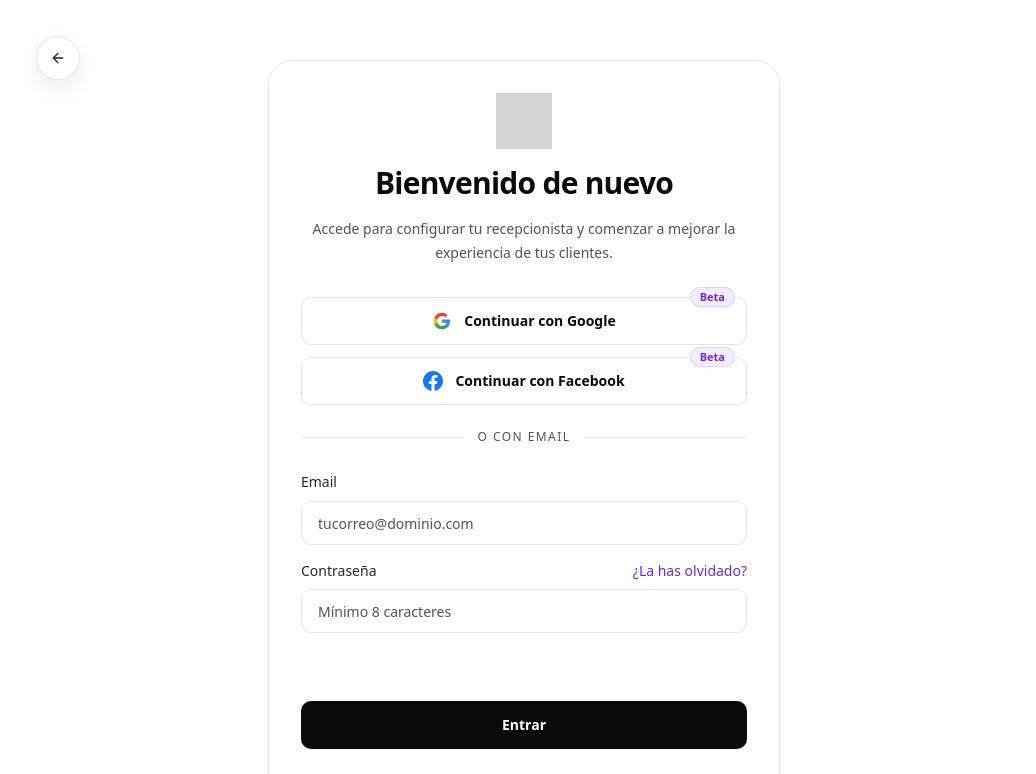
LoginPage › muestra un error de conexión si la petición no llega a obtener respuesta
Type "ana@example.com" into the field with placeholder "tucorreo@dominio.com".
click(524, 523); type("ana@example.com")  # box x1=301 y1=501 x2=747 y2=545
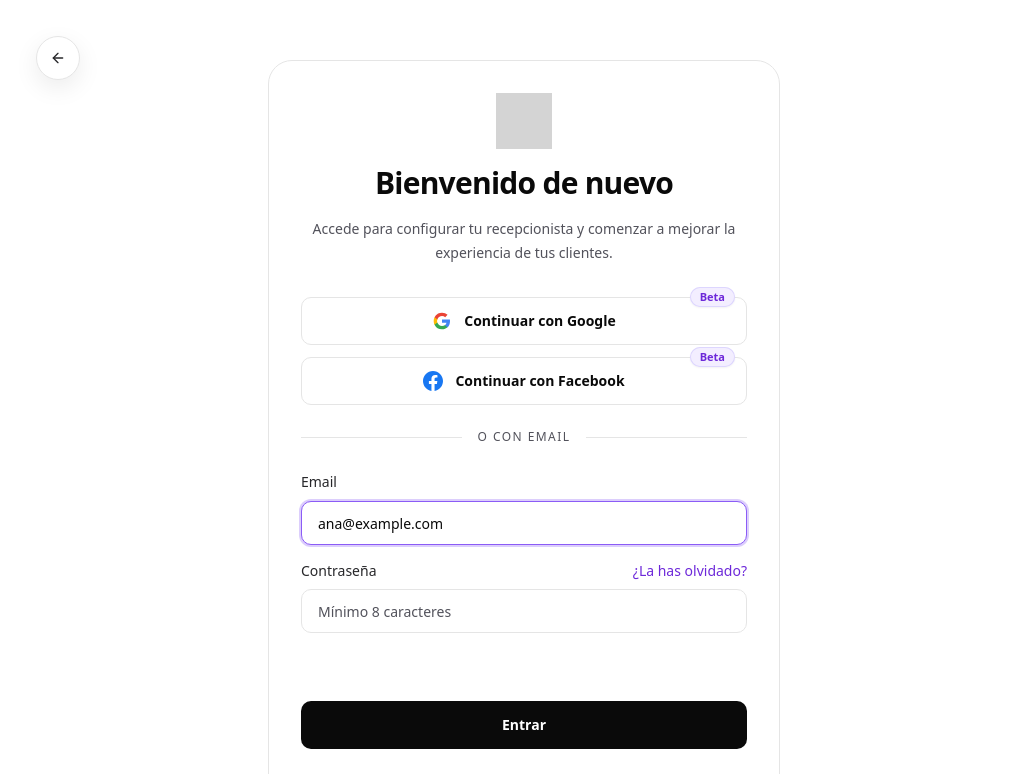
Type "wrong" into the password field with placeholder "Mínimo 8 caracteres".
click(524, 611); type("wrong")  # box x1=301 y1=589 x2=747 y2=633
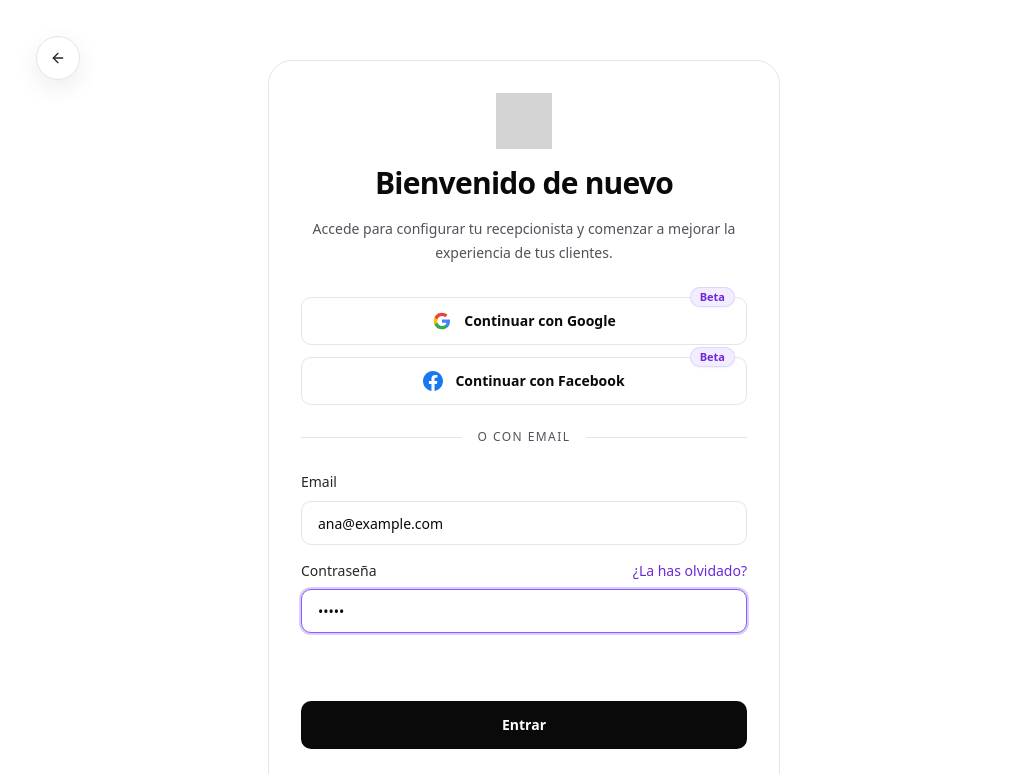
Click the button "Entrar".
click(524, 725)  # box x1=301 y1=701 x2=747 y2=749
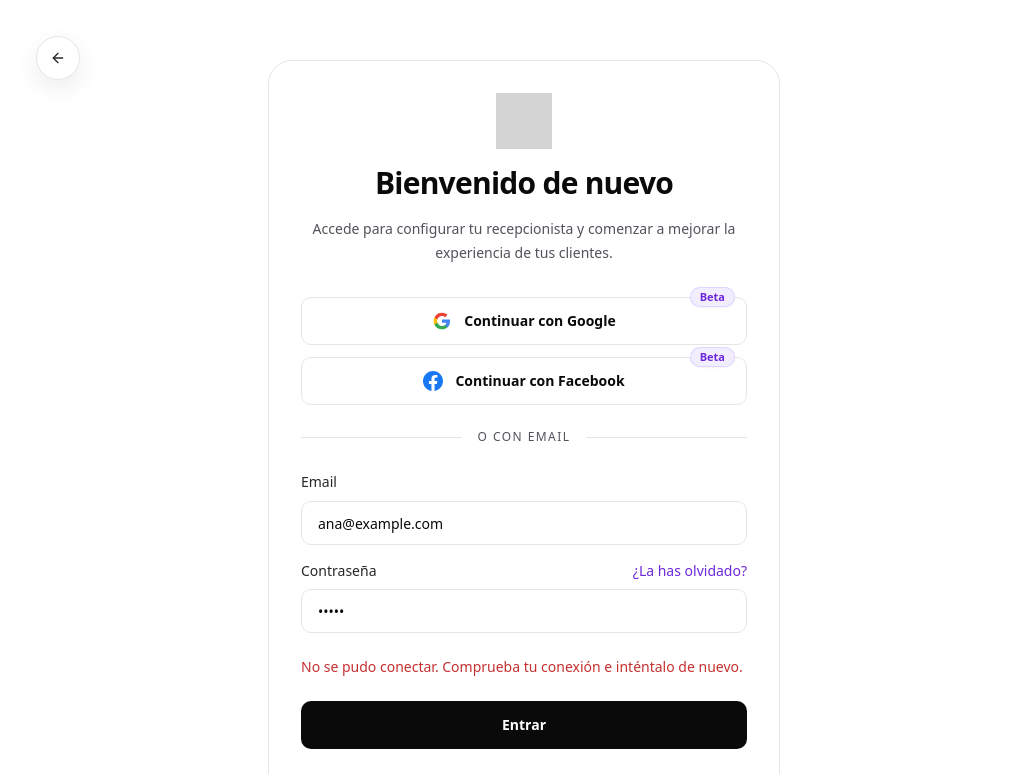
Expected: the text "No se pudo conectar. Comprueba tu conexión e inténtalo de nuevo." is shown, x1=301 y1=657 x2=747 y2=677
